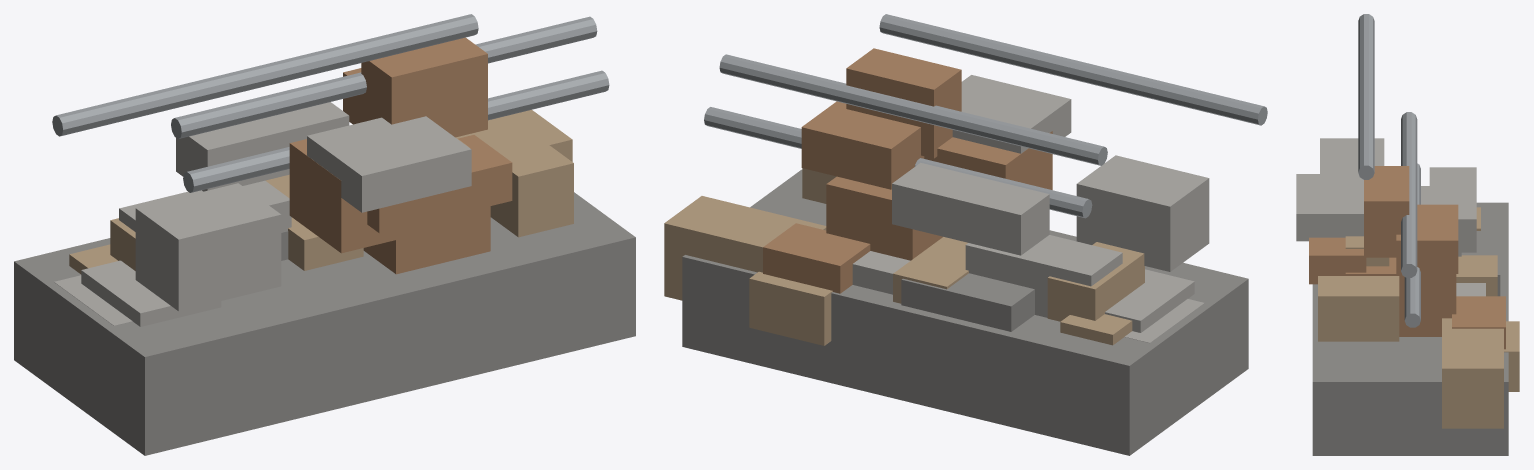
The model's file is kit_debris.glb.
3 renders of one model, left to right at view 1: azimuth 30°, elevation 25°; view 2: azimuth 150°, elevation 25°; view 3: azimuth 270°, elevation 25°, orthographic. The views are drawn at different scales.
Parts seen in each view (by area): view 1: kit_debris; view 2: kit_debris; view 3: kit_debris.
Part boxes in pixels (bbox=[...]): kit_debris: bbox=[14, 14, 635, 455]; kit_debris: bbox=[664, 14, 1267, 455]; kit_debris: bbox=[1296, 14, 1519, 455].
Size of the model in its own units: 3.06 by 1.65 by 1.37.
